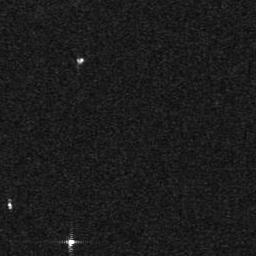ship: (65, 238, 76, 247), (76, 56, 84, 64)
